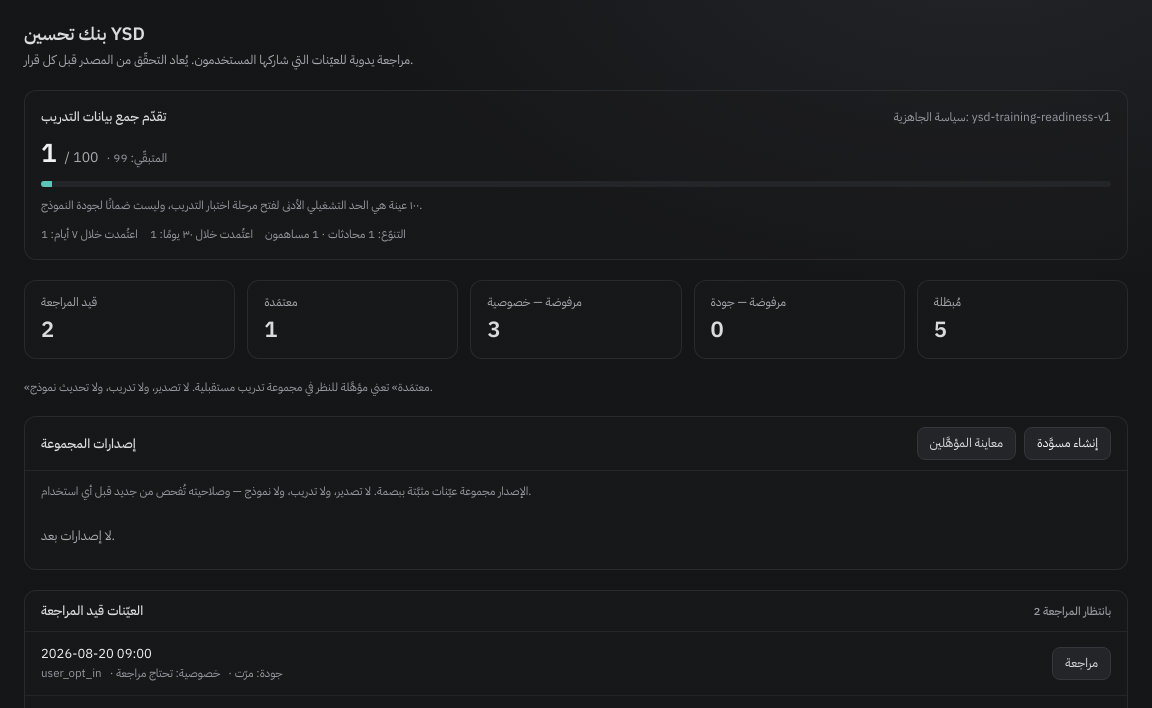
Test: ★ (٢) المعاينة — تحذيرٌ قبل النصّ › ★ والتنقيح يُقال حين يقع
Click the 1st button "مراجعة": (1082, 663) [1052,647,1111,680]
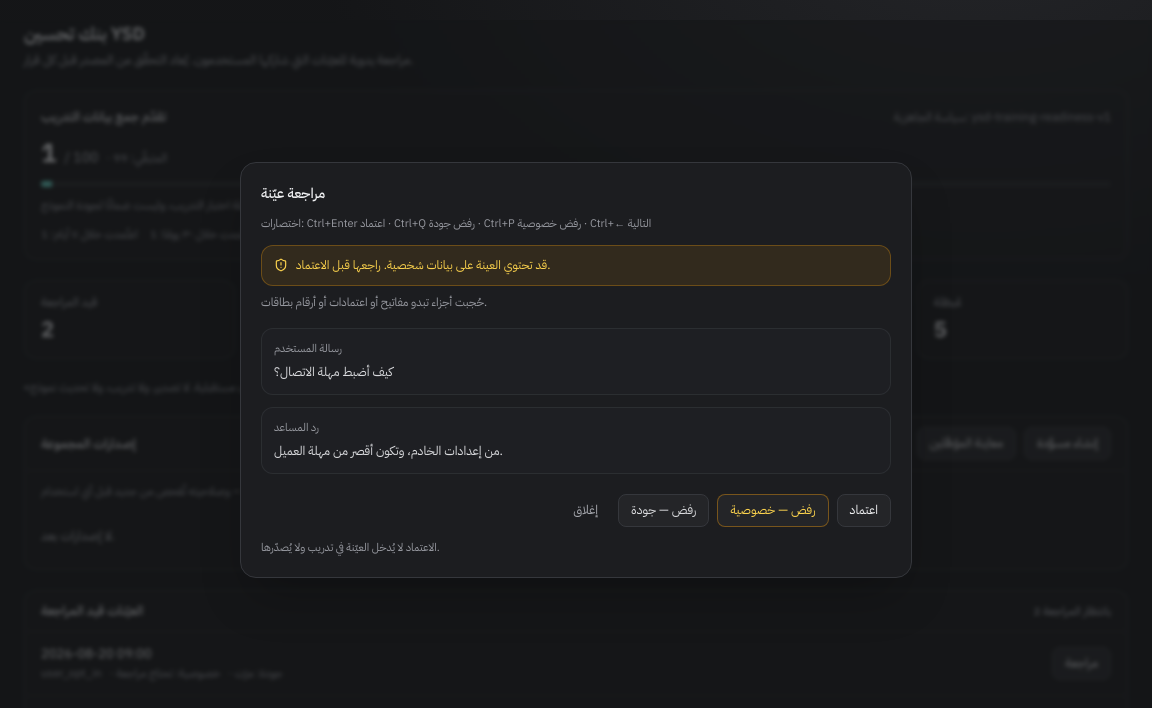
Result: the text "حُجبت أجزاء تبدو مفاتيح أو اعتمادات" is shown at [261,294,487,311]
